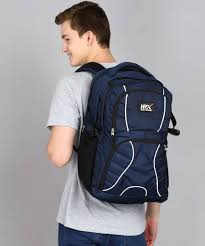backpack: (73, 61, 179, 204)
